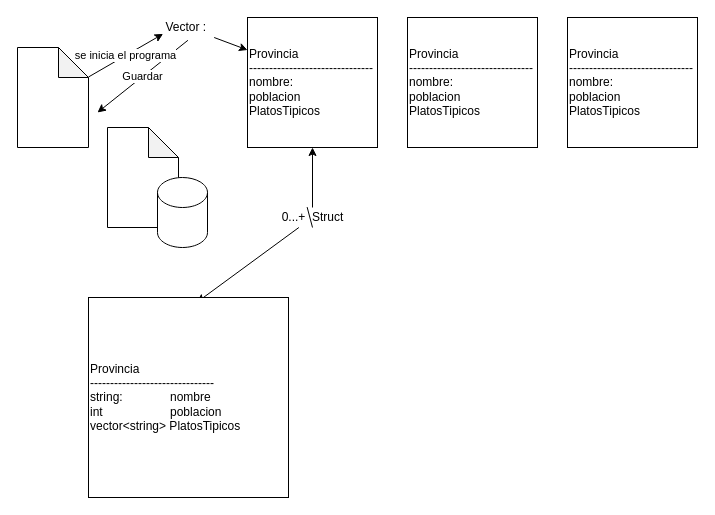
This 715x515 diagram has some shape labels left out. The shapes that lost their labels are listed below. From the top down, each one's box as (x1, y1, x2, y2) in pixels, then its label:
(16, 46, 88, 148): TXT
(106, 126, 178, 228): DAT
